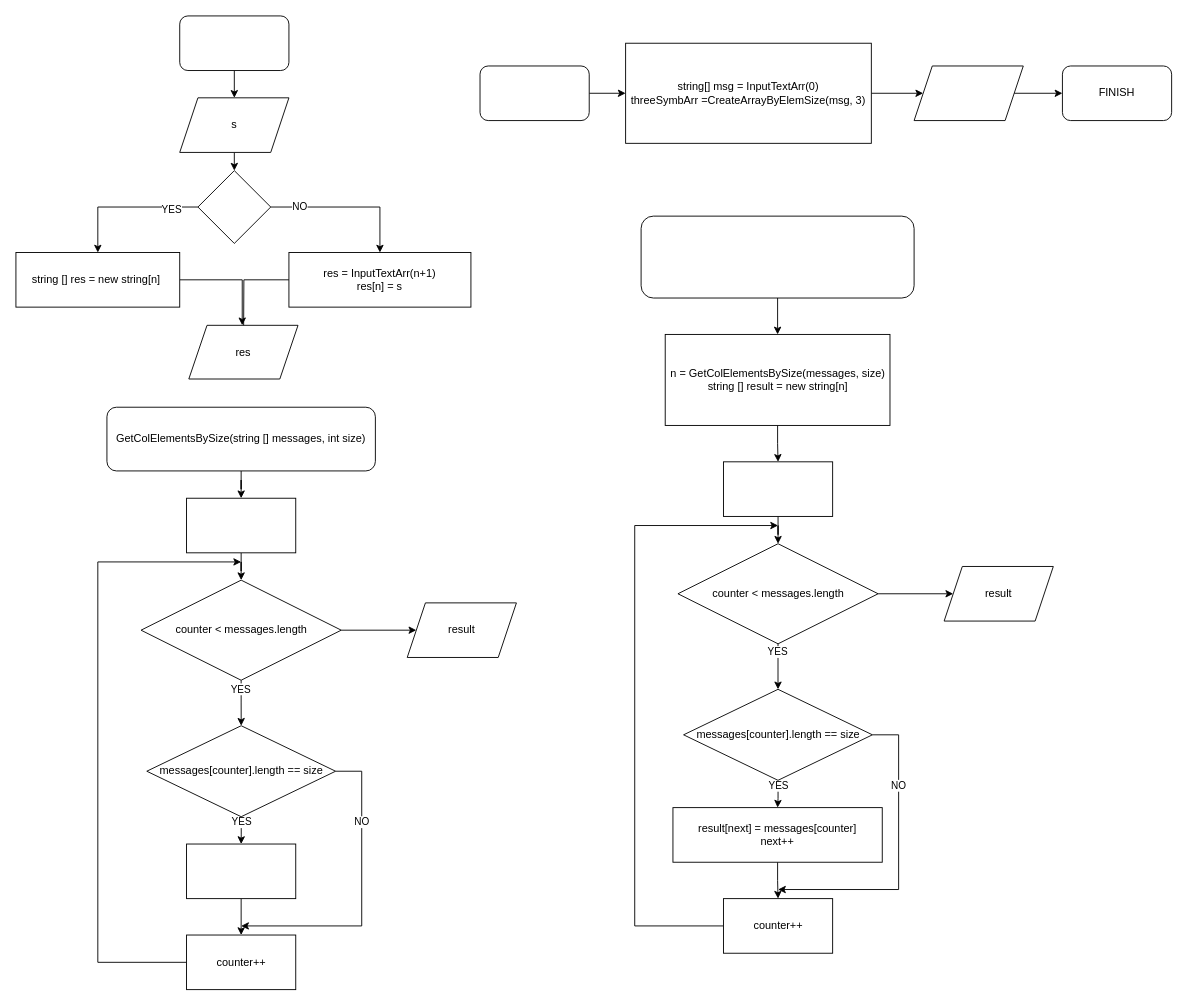
Image size: 1188x1006. Some labels were removed from this diagram. Each missing label, with the centre of its shape:
counter = 0 next++: (x=778, y=488)
counter = 0 result = 0: (x=241, y=525)
CreateArrayByElemSize(string [] messages, int size): (x=777, y=256)
InputTextArr(int n): (x=234, y=43)
result++: (x=241, y=871)
s == "": (x=234, y=206)
START: (x=534, y=93)
threeSymbArr: (x=968, y=93)
